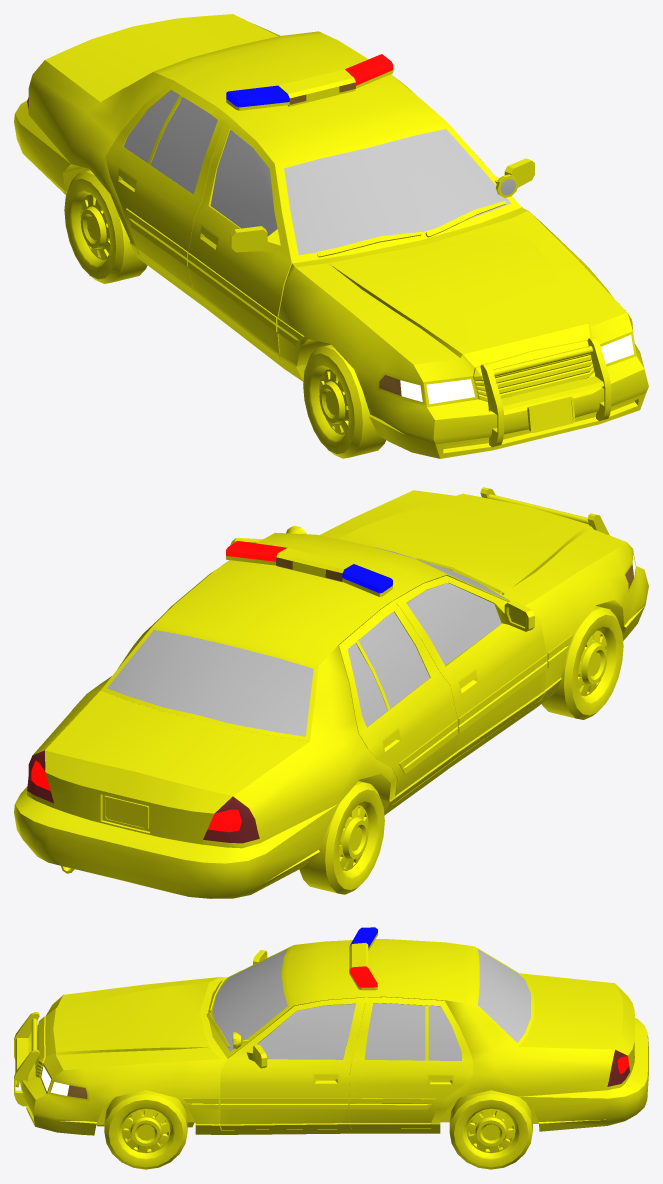
File: us_police.glb
3 renders of one model, top to bottom at view 1: azimuth 30°, elevation 25°; view 2: azimuth 150°, elevation 25°; view 3: azimuth 270°, elevation 25°, orthographic. The views are drawn at different scales.
Visible parts, largest first — view 1: Police_base, Police_hood, PDoor_FR, PDoor_BR, Police_trunk, P_WheelFR, P_Wheels_B, Police_light; view 2: Police_base, Police_trunk, Police_hood, PDoor_FR, PDoor_BR, P_Wheels_B, P_WheelFR, Police_light; view 3: Police_base, PDoor_FL, PDoor_BL, Police_hood, Police_trunk, P_WheelFL, P_Wheels_B, Police_light.
Boxes of the visible parts, x1,y1,x2,y2 form: Police_base: [14, 14, 648, 458]; Police_hood: [295, 211, 626, 364]; PDoor_FR: [187, 117, 291, 361]; PDoor_BR: [105, 81, 229, 294]; Police_trunk: [45, 14, 278, 102]; P_WheelFR: [303, 344, 385, 458]; P_Wheels_B: [64, 170, 147, 283]; Police_light: [226, 54, 393, 110]; Police_base: [14, 487, 648, 898]; Police_trunk: [45, 690, 309, 844]; Police_hood: [319, 490, 626, 603]; PDoor_FR: [393, 575, 547, 763]; PDoor_BR: [338, 601, 458, 804]; P_Wheels_B: [299, 781, 384, 894]; P_WheelFR: [542, 606, 623, 719]; Police_light: [226, 540, 392, 596]; Police_base: [14, 939, 648, 1135]; PDoor_FL: [220, 997, 365, 1129]; PDoor_BL: [349, 997, 473, 1128]; Police_hood: [53, 977, 219, 1070]; Police_trunk: [519, 973, 634, 1075]; P_WheelFL: [104, 1090, 187, 1169]; P_Wheels_B: [449, 1090, 532, 1169]; Police_light: [349, 927, 377, 990].
Size of the model in its own units: 2.16 by 1.59 by 5.41.
Materials: 13 (3 with a texture image).
